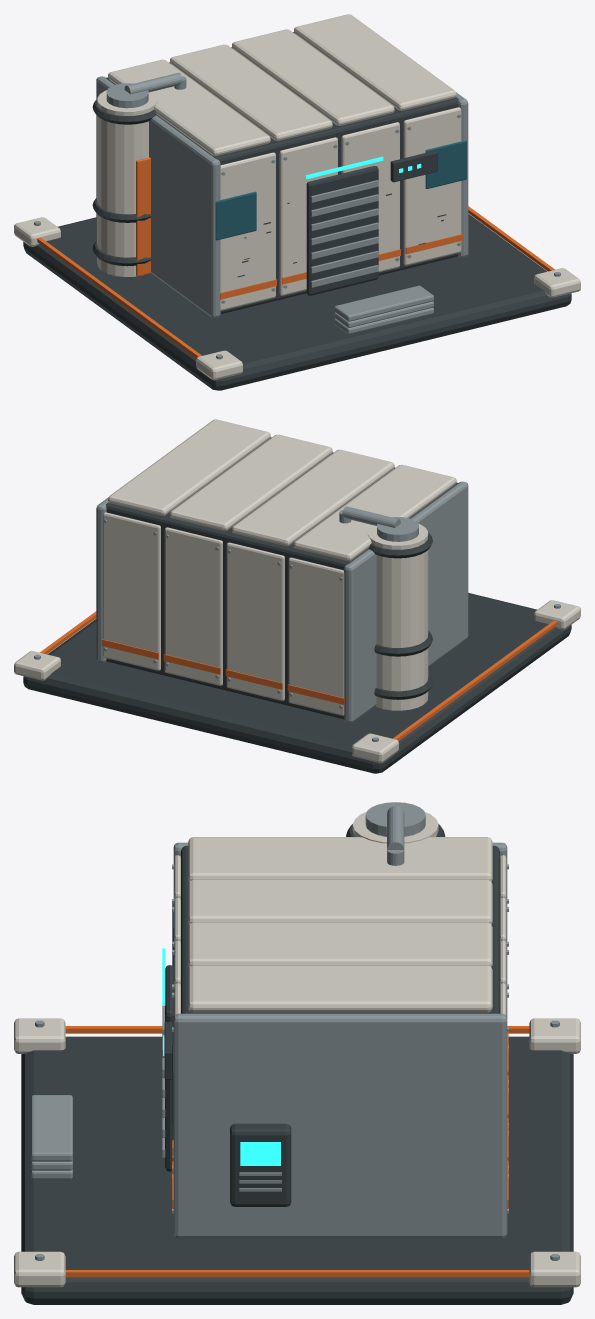
The model's file is SM_SurveyEquipmentPlant_Body.fbx.
The picture shows the model from 3 angles, top to bottom: view 1: azimuth 30°, elevation 25°; view 2: azimuth 150°, elevation 25°; view 3: azimuth 270°, elevation 25°; orthographic projection. The views are drawn at different scales.
Visible parts, largest first — view 1: SM_SurveyEquipmentPlant_Body; view 2: SM_SurveyEquipmentPlant_Body; view 3: SM_SurveyEquipmentPlant_Body.
Part boxes in pixels (box(x1,y1,x2,y2)): SM_SurveyEquipmentPlant_Body: box(14, 14, 580, 390); SM_SurveyEquipmentPlant_Body: box(14, 419, 580, 773); SM_SurveyEquipmentPlant_Body: box(14, 802, 580, 1304).
Size of the model in its own units: 492 by 462 by 257.
